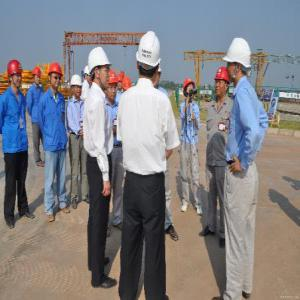red: (7, 58, 25, 91), (213, 66, 230, 100), (48, 62, 64, 92), (107, 70, 119, 101), (183, 78, 196, 99), (32, 66, 44, 88)
white: (137, 32, 162, 85), (227, 38, 251, 85), (88, 46, 110, 89), (70, 75, 84, 101), (84, 67, 92, 83)
